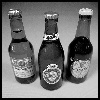beer: (5, 7, 39, 90)
